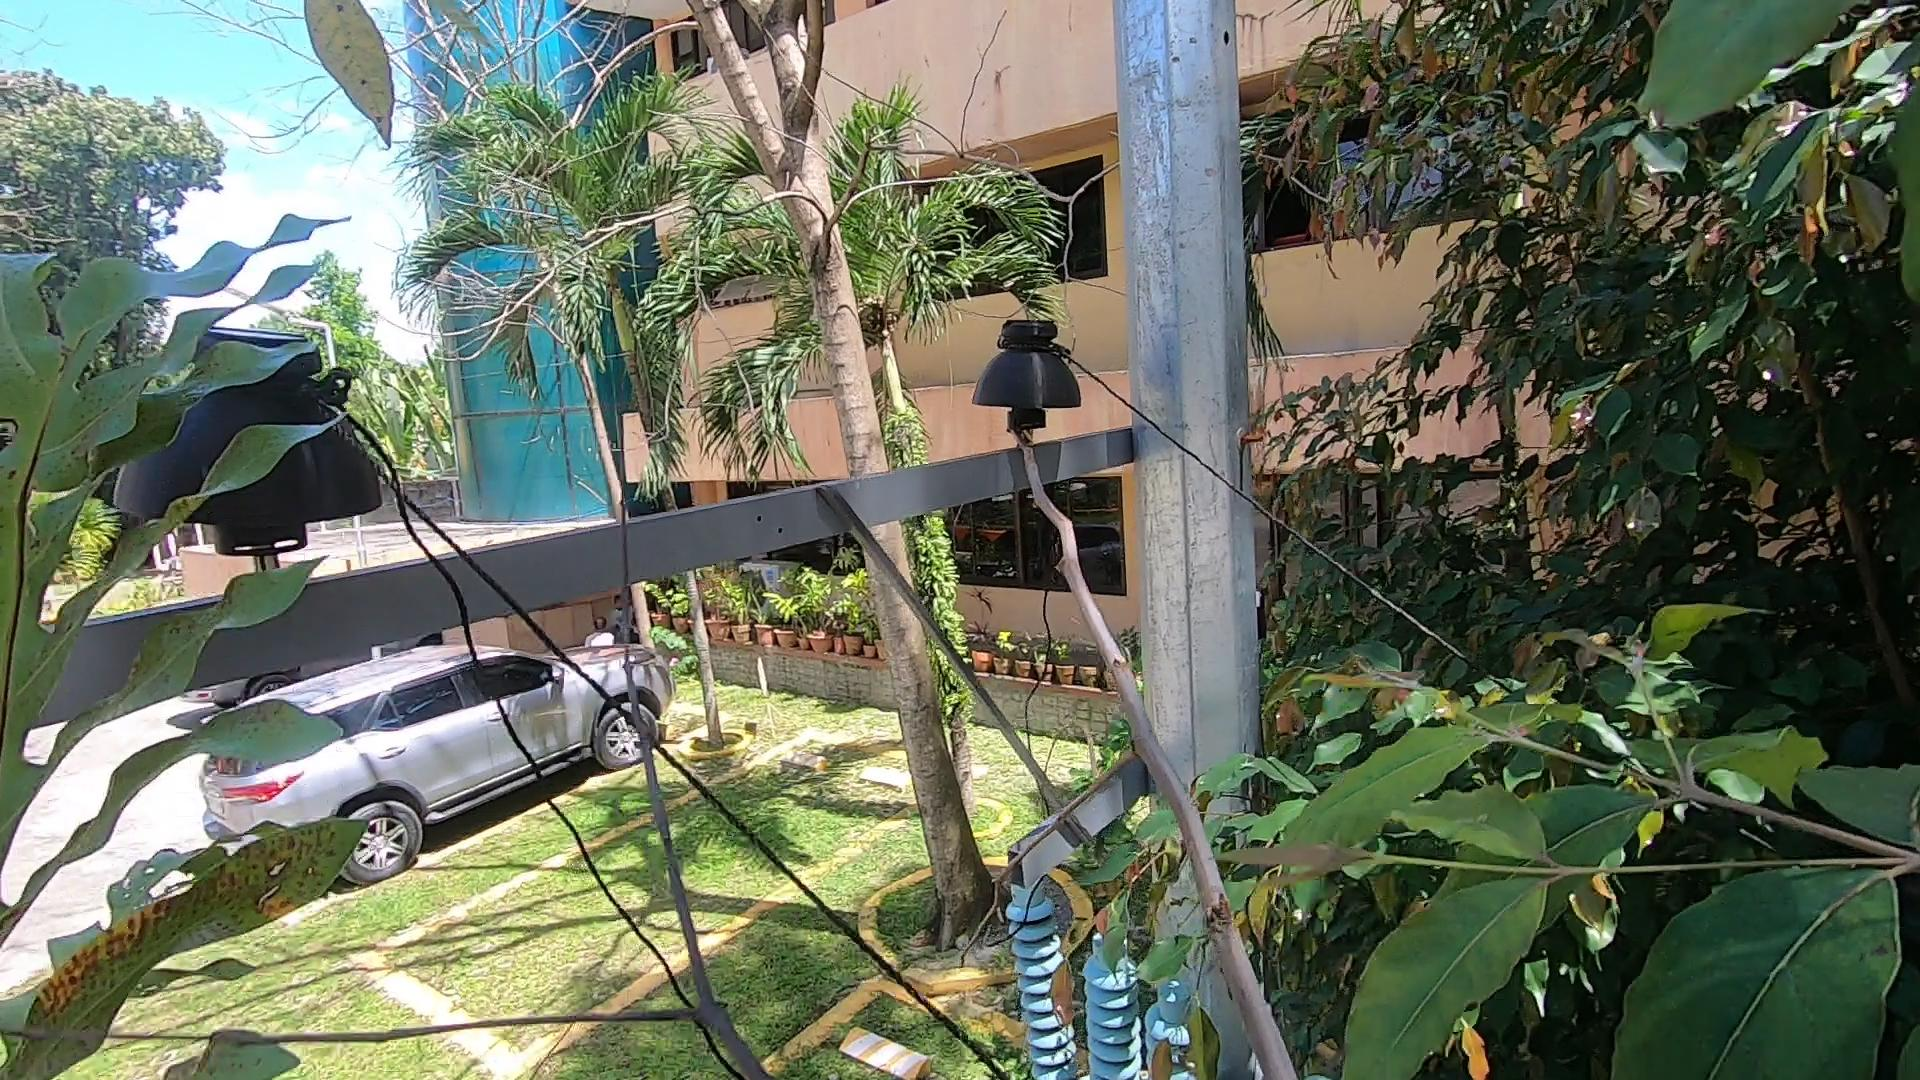branch with leaves: (1068, 820, 1282, 1080)
leaf: (1, 175, 483, 934)
tree branch: (978, 386, 1312, 1080)
